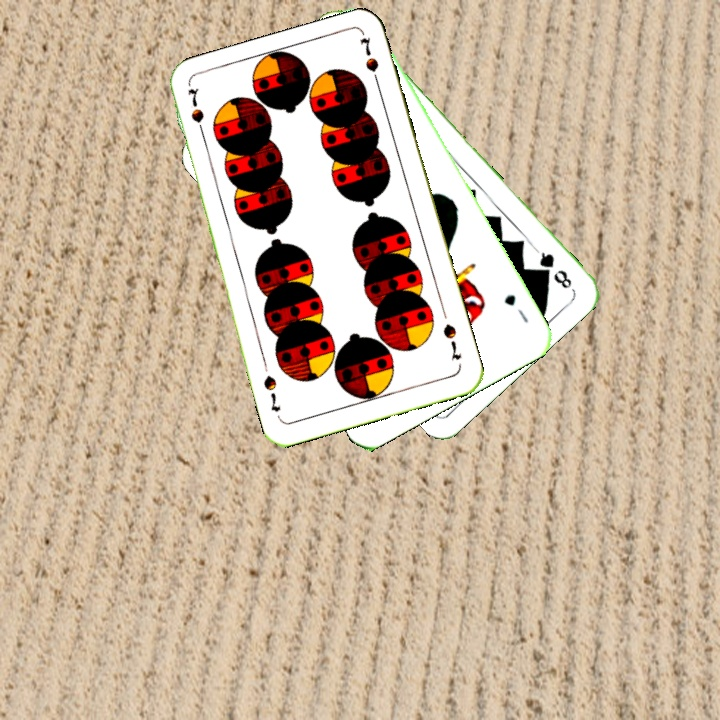G8: (531, 245, 575, 292)
GU: (500, 290, 532, 326)
S7: (183, 84, 208, 142), (439, 319, 464, 364)
